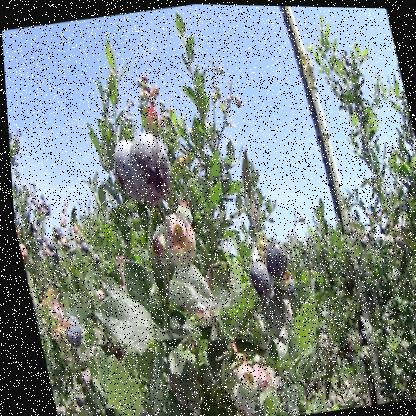intermediate: (249, 362, 264, 389), (17, 243, 26, 263)
mature: (124, 131, 176, 202), (106, 141, 144, 201), (259, 238, 288, 283), (245, 262, 268, 296), (59, 315, 82, 347)
young: (161, 212, 196, 269), (147, 226, 172, 266), (231, 361, 255, 397), (227, 383, 250, 414), (246, 318, 268, 348)
